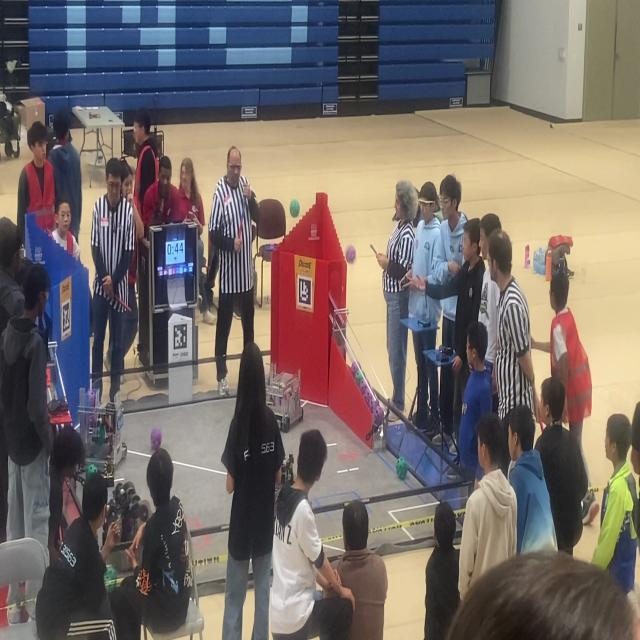artifact_green: (92, 418, 106, 446), (104, 565, 117, 592), (396, 457, 408, 480), (373, 404, 384, 426), (367, 393, 377, 414), (290, 199, 299, 218), (122, 481, 135, 493), (115, 488, 126, 502), (99, 422, 106, 444), (86, 464, 97, 477), (359, 379, 367, 396), (350, 361, 359, 376), (355, 370, 363, 386), (114, 483, 122, 496)
artifact_purple: (150, 427, 162, 452), (373, 404, 384, 426), (346, 246, 355, 263), (355, 370, 364, 386), (364, 388, 372, 406), (368, 395, 376, 412), (350, 362, 359, 377), (359, 380, 367, 396), (362, 389, 369, 404)
